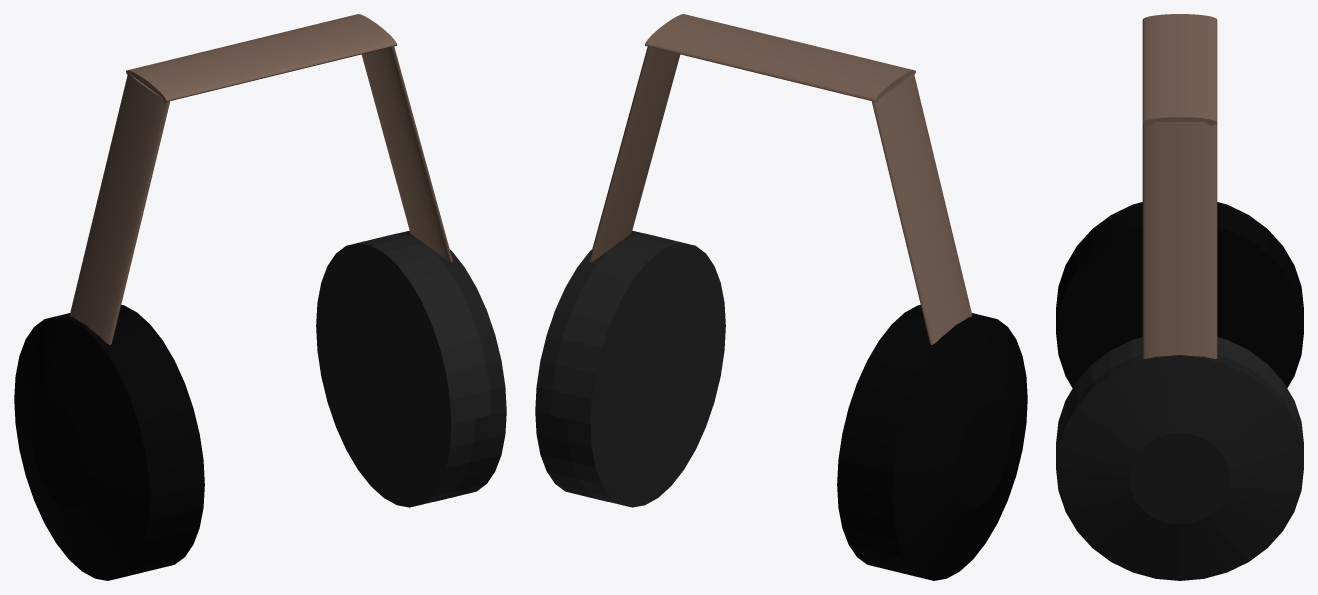
File: headphones.fbx
The picture shows the model from 3 angles, left to right: view 1: azimuth 30°, elevation 25°; view 2: azimuth 150°, elevation 25°; view 3: azimuth 270°, elevation 25°; orthographic projection. The views are drawn at different scales.
Visible parts, largest first — view 1: Cylinder.002, Cylinder, Cylinder.004, Cylinder.006, Cylinder.001, Cylinder.005, Cylinder.003; view 2: Cylinder.002, Cylinder, Cylinder.004, Cylinder.006, Cylinder.001, Cylinder.005, Cylinder.003; view 3: Cylinder.003, Cylinder.001, Cylinder.005, Cylinder.006, Cylinder.002, Cylinder.
Boxes of the visible parts, x1=… form: Cylinder.002: x1=316, y1=233, x2=491, y2=507; Cylinder: x1=14, y1=313, x2=181, y2=580; Cylinder.004: x1=69, y1=74, x2=170, y2=344; Cylinder.006: x1=126, y1=14, x2=396, y2=102; Cylinder.001: x1=113, y1=305, x2=204, y2=570; Cylinder.005: x1=361, y1=46, x2=452, y2=262; Cylinder.003: x1=399, y1=230, x2=506, y2=501; Cylinder.002: x1=550, y1=233, x2=725, y2=507; Cylinder: x1=860, y1=313, x2=1027, y2=580; Cylinder.004: x1=871, y1=74, x2=972, y2=344; Cylinder.006: x1=645, y1=14, x2=915, y2=102; Cylinder.001: x1=837, y1=305, x2=928, y2=570; Cylinder.005: x1=589, y1=46, x2=680, y2=262; Cylinder.003: x1=535, y1=230, x2=642, y2=501; Cylinder.003: x1=1056, y1=355, x2=1303, y2=580; Cylinder.001: x1=1056, y1=209, x2=1303, y2=387; Cylinder.005: x1=1142, y1=122, x2=1217, y2=358; Cylinder.006: x1=1142, y1=14, x2=1217, y2=125; Cylinder.002: x1=1056, y1=337, x2=1303, y2=459; Cylinder: x1=1056, y1=202, x2=1303, y2=320.
Size of the model in its own units: 344 by 388 by 200.
